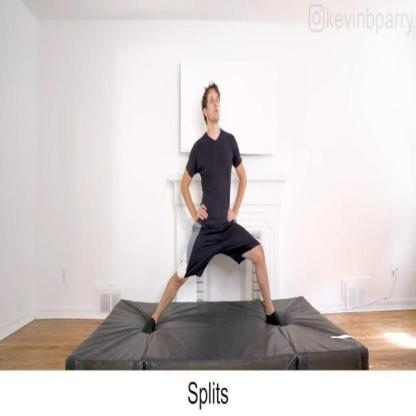person: (174, 82, 279, 318)
